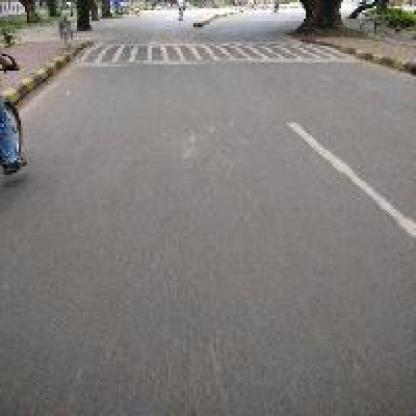Speed Bump: (75, 40, 343, 66)
